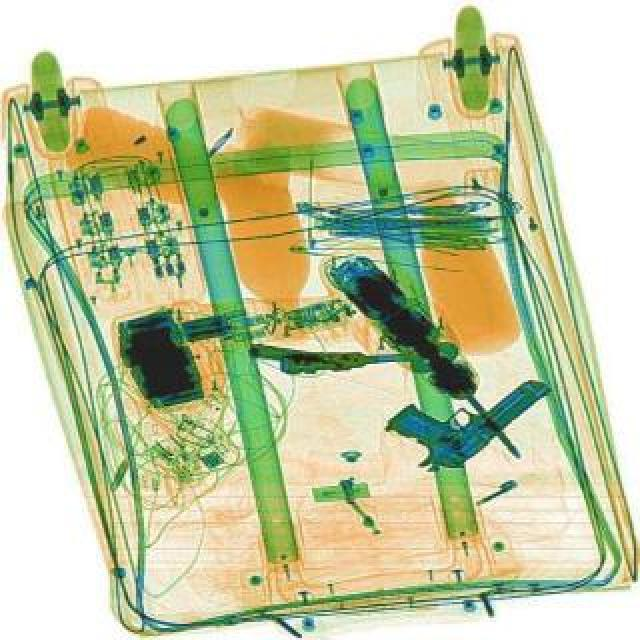gun: (374, 330, 550, 486), (248, 334, 418, 374)
